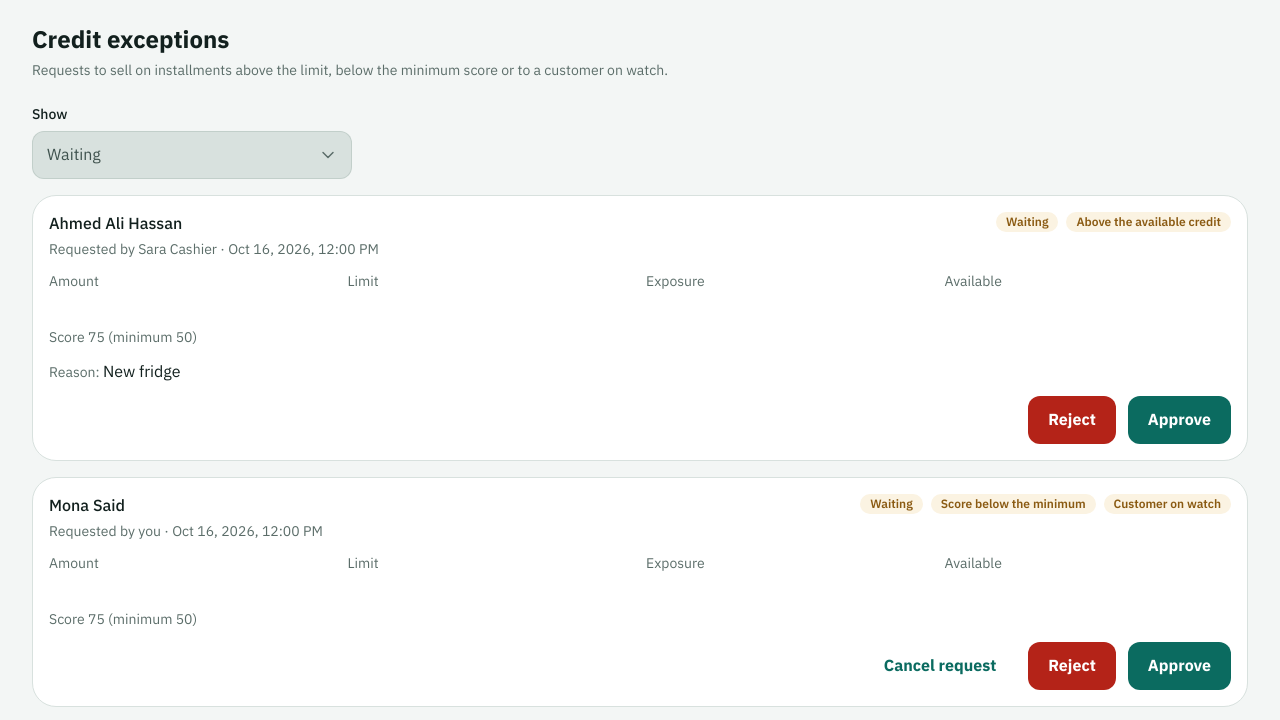
it: R03 credit exceptions page › a refusal from the server is translated inside the dialog
Step 1. Click the 1st button "Approve" → {"x": 1179, "y": 420}, box [1128, 396, 1231, 444]
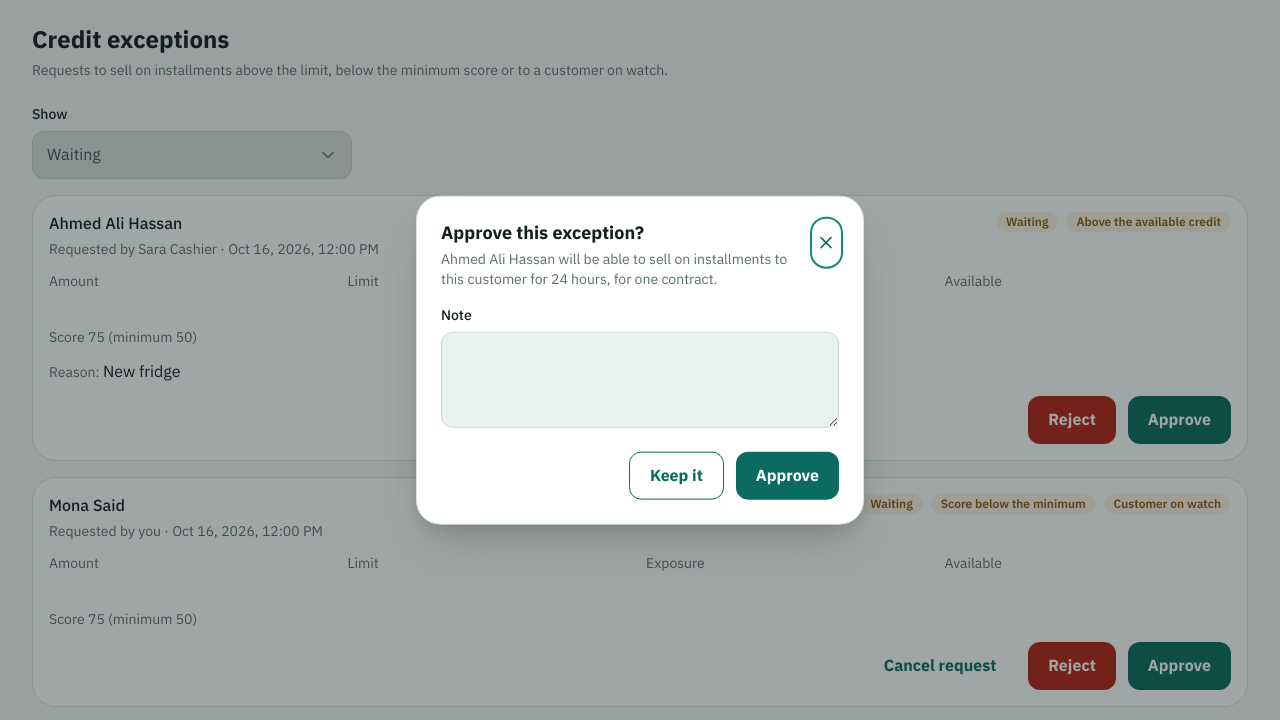
Step 2. Click the button "Approve" → {"x": 787, "y": 475}, box [736, 451, 839, 499]
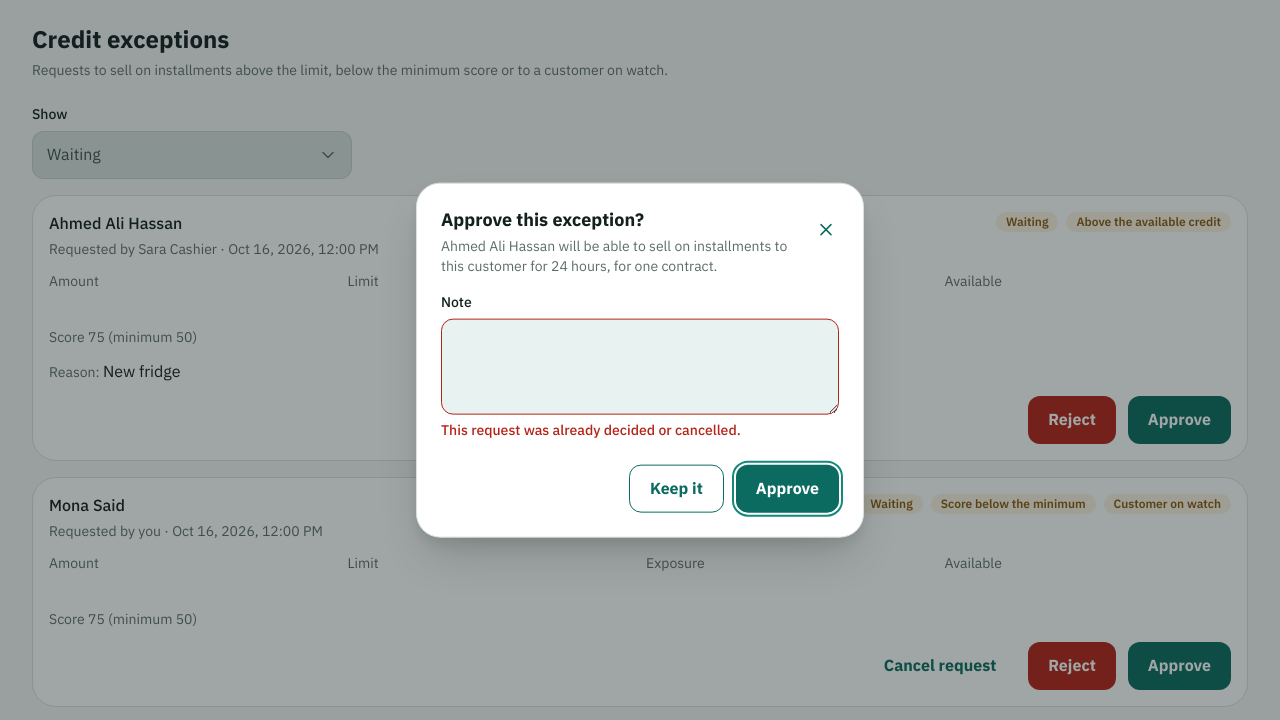
Expected: the text "This request was already decided or cancelled." is shown, [441, 419, 741, 440]
